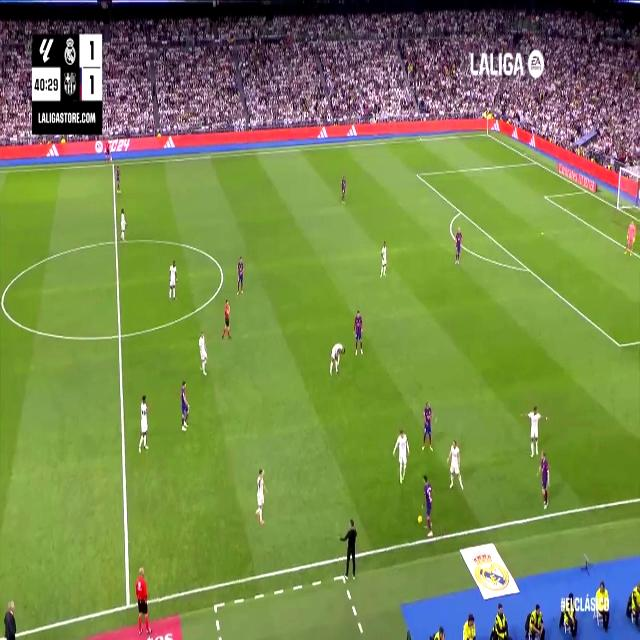bigarea_bottom_inner: (615, 334, 624, 355)
bigarea_top_inner: (414, 167, 420, 181)
bottom_arc_area_intersection: (524, 262, 532, 276)
corner: (483, 128, 490, 138)
halfcircle_bottom: (114, 324, 124, 346)
halfcircle_top: (110, 231, 121, 252)
midline_bottom_intersection: (122, 591, 134, 615)
midline_top_intersection: (110, 158, 116, 171)
smallarea_top_inner: (542, 191, 548, 200)
top_arc_area_intersection: (458, 204, 464, 217)
